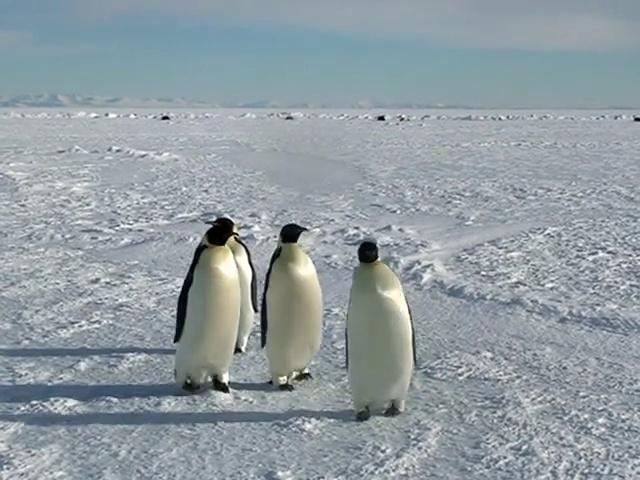animal: (346, 242, 417, 422)
